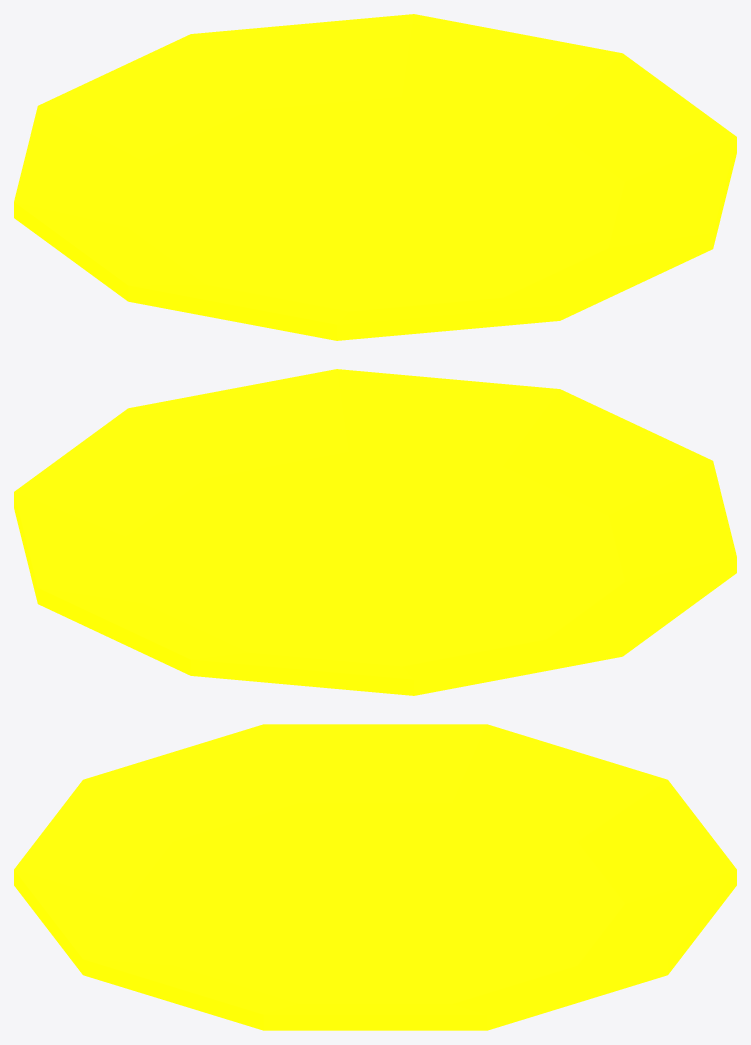
The model's file is plate-dinner-christmas.glb.
The picture shows the model from 3 angles, top to bottom: view 1: azimuth 30°, elevation 25°; view 2: azimuth 150°, elevation 25°; view 3: azimuth 270°, elevation 25°; orthographic projection. The views are drawn at different scales.
Visible parts, largest first — view 1: plate_dinner_christmas; view 2: plate_dinner_christmas; view 3: plate_dinner_christmas.
Part boxes in pixels (x1,y1,x2,y2): plate_dinner_christmas: [14, 14, 736, 340]; plate_dinner_christmas: [14, 369, 736, 695]; plate_dinner_christmas: [14, 724, 736, 1030].
Size of the model in its own units: 0.2995 by 0.0241 by 0.315.
Materials: 1 (1 with a texture image).
